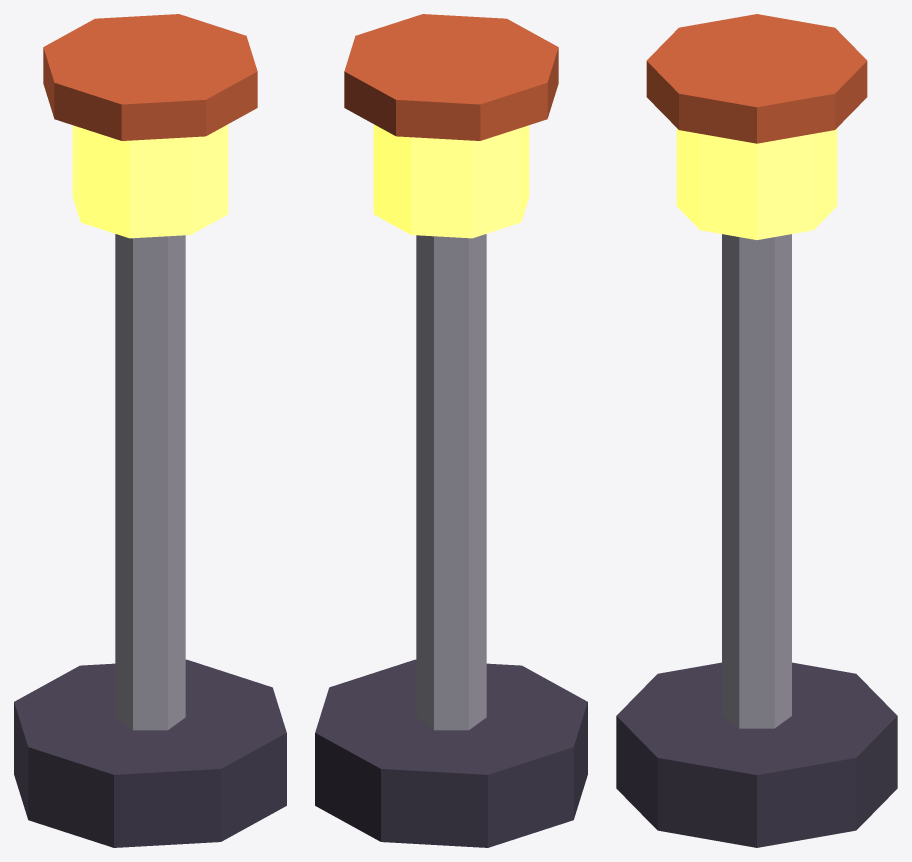
Rendered from MOONSHIFT_ENV_Terrain_PathLight.glb.
3 views of the same model, side by side, from view 1: azimuth 30°, elevation 25°; view 2: azimuth 150°, elevation 25°; view 3: azimuth 270°, elevation 25° (orthographic).
Parts seen in each view (by area): view 1: PathLight_Base, PathLight_Pole, PathLight_Cap, PathLight_Lamp; view 2: PathLight_Base, PathLight_Pole, PathLight_Cap, PathLight_Lamp; view 3: PathLight_Base, PathLight_Pole, PathLight_Cap, PathLight_Lamp.
Boxes of the visible parts, left/top/right/bottom form: PathLight_Base: left=14, top=659, right=286, bottom=847; PathLight_Pole: left=115, top=234, right=185, bottom=730; PathLight_Cap: left=43, top=14, right=257, bottom=140; PathLight_Lamp: left=72, top=124, right=228, bottom=238; PathLight_Base: left=315, top=659, right=587, bottom=847; PathLight_Pole: left=416, top=234, right=486, bottom=730; PathLight_Cap: left=344, top=14, right=558, bottom=140; PathLight_Lamp: left=373, top=124, right=529, bottom=238; PathLight_Base: left=616, top=662, right=897, bottom=847; PathLight_Pole: left=722, top=234, right=791, bottom=728; PathLight_Cap: left=646, top=14, right=867, bottom=143; PathLight_Lamp: left=676, top=128, right=837, bottom=239.
Size of the model in its own units: 0.28 by 0.8 by 0.28.
